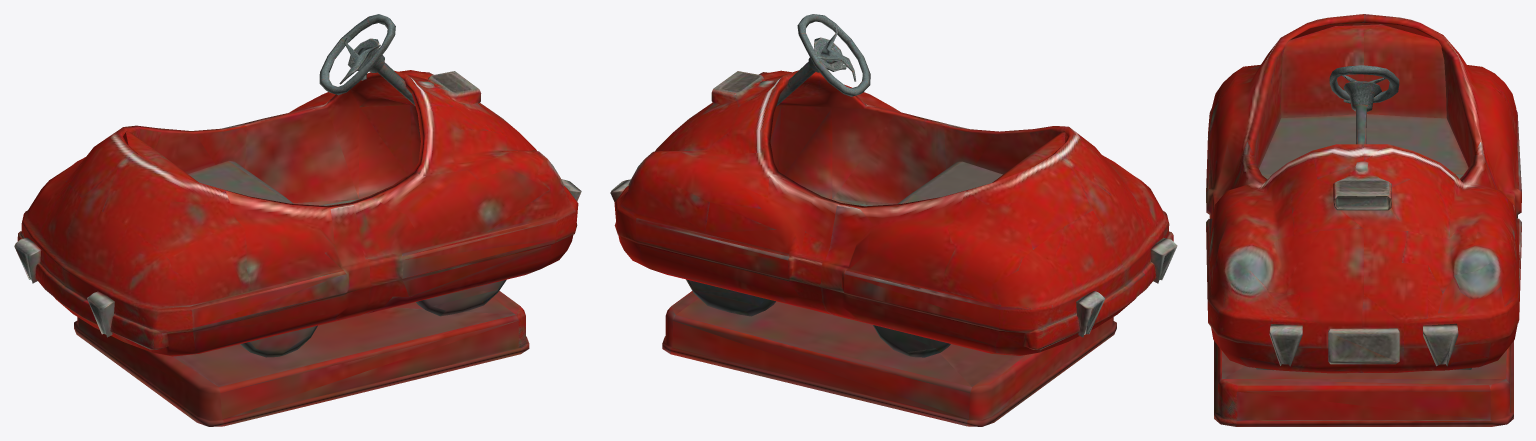
Rendered from mall-kiddie-ride.glb.
The picture shows the model from 3 angles, left to right: view 1: azimuth 30°, elevation 25°; view 2: azimuth 150°, elevation 25°; view 3: azimuth 270°, elevation 25°; orthographic projection. The views are drawn at different scales.
Visible parts, largest first — view 1: kiddie-ride; view 2: kiddie-ride; view 3: kiddie-ride.
Part boxes in pixels (x1,y1,x2,y2): kiddie-ride: [14, 14, 581, 426]; kiddie-ride: [610, 14, 1177, 426]; kiddie-ride: [1206, 14, 1521, 426].
Bounding box in the file's own units: 1.3 × 0.7843 × 0.6936.
1 material, 1 textured.
